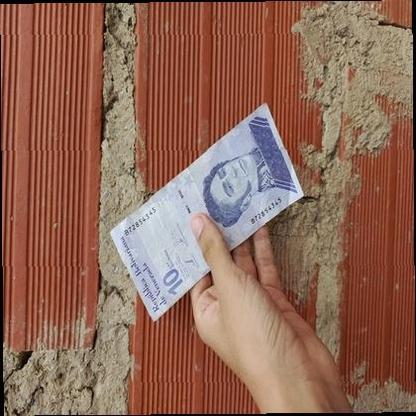ten-front-vef: (109, 103, 303, 321)
